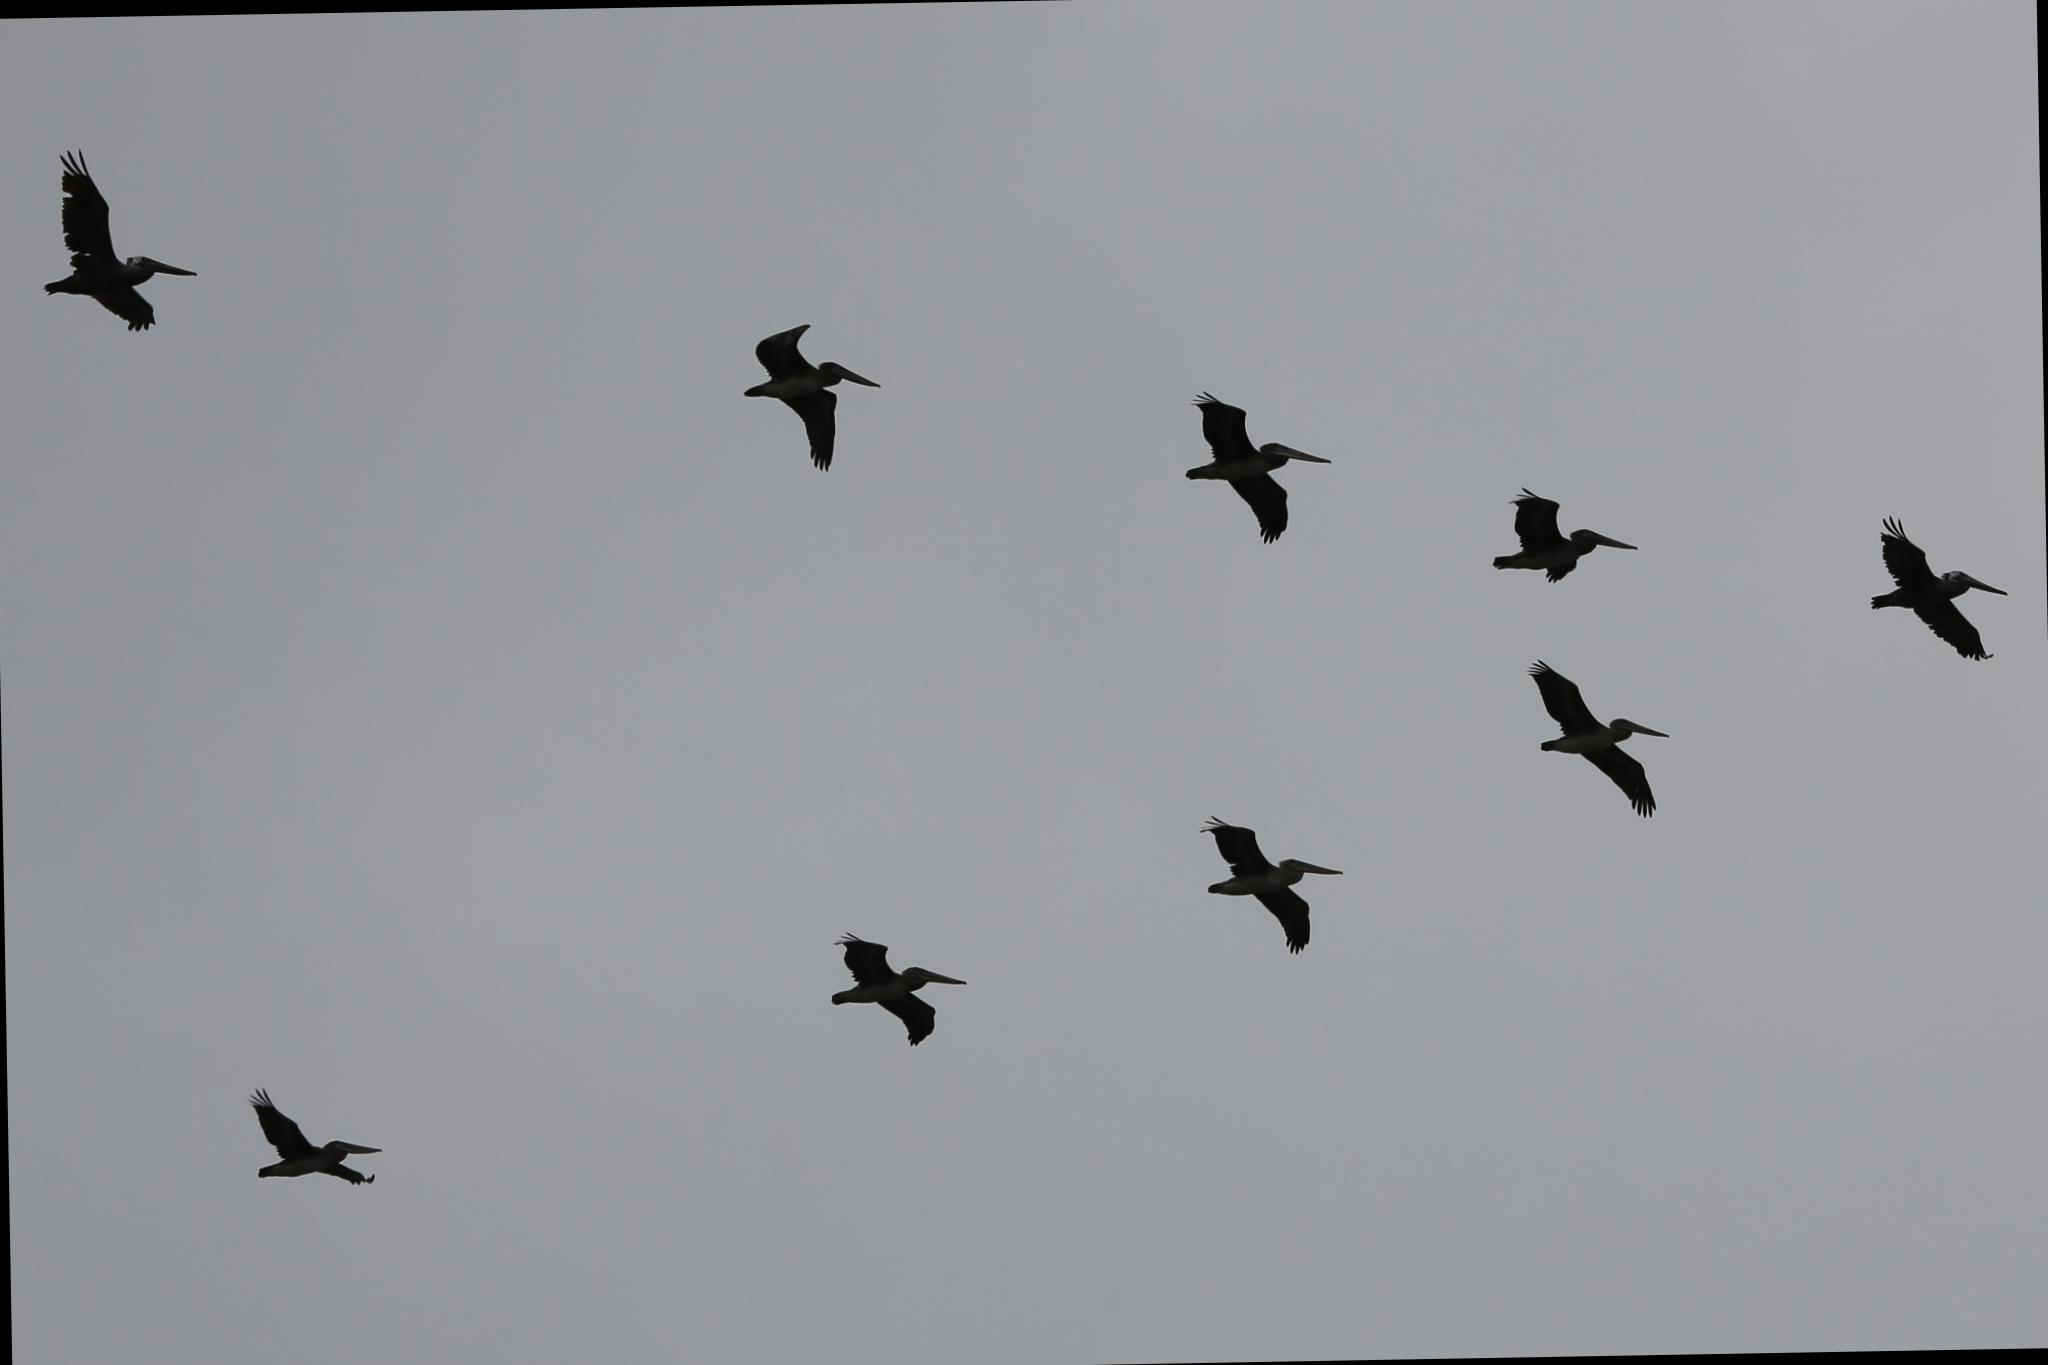bird: (20, 131, 207, 361), (719, 305, 891, 501), (1434, 449, 1644, 608), (1168, 370, 1340, 559), (1842, 491, 2010, 678), (1185, 794, 1360, 960), (1512, 649, 1672, 824), (225, 1062, 399, 1202), (813, 920, 982, 1059)
